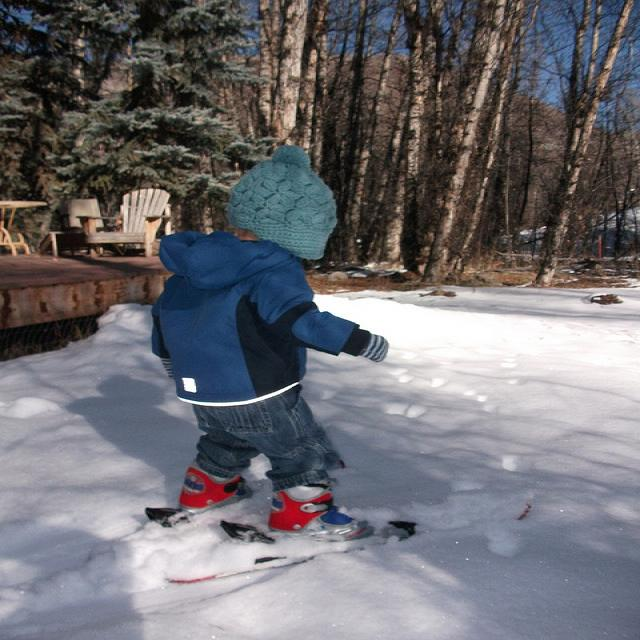chair: (78, 188, 171, 258), (50, 198, 101, 259)
dining table: (0, 199, 47, 207)
